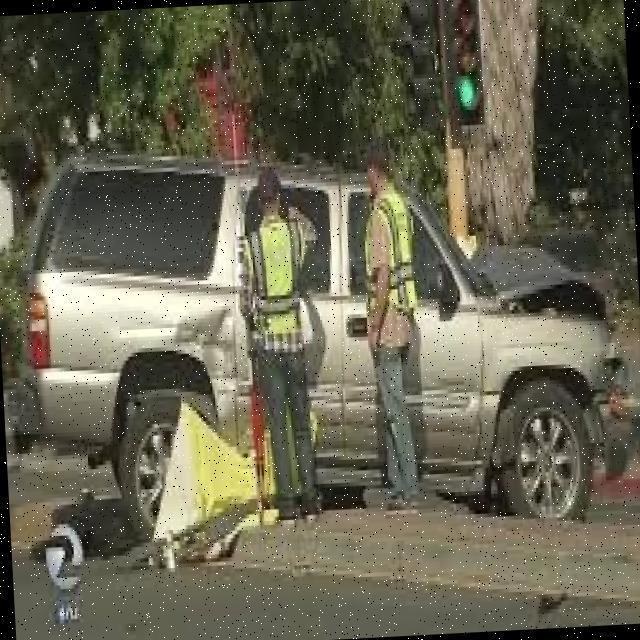accident: (107, 132, 640, 580)
